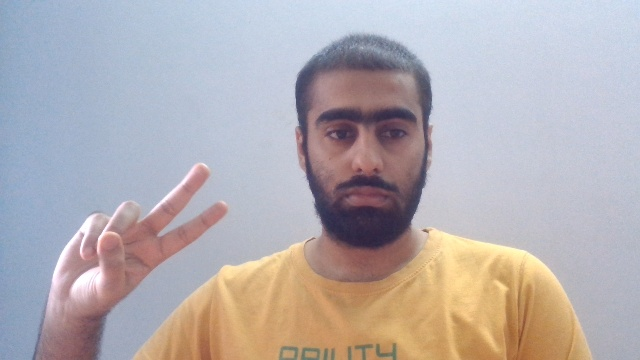scissors: (51, 161, 230, 316)
